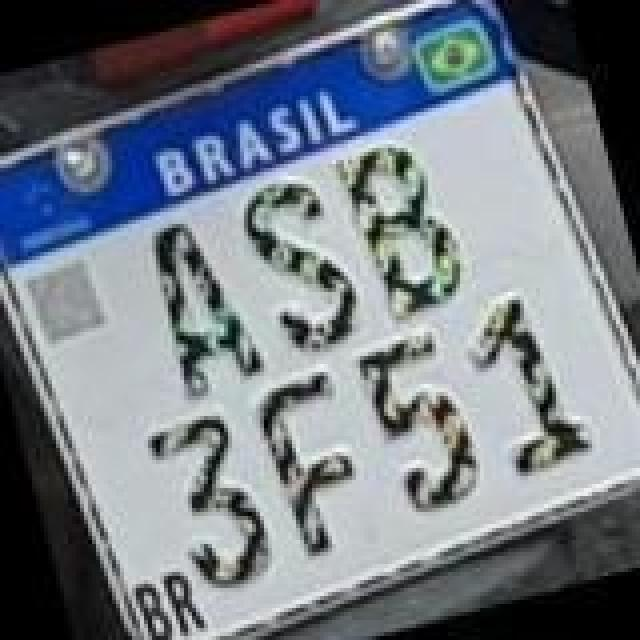1: (452, 280, 604, 488)
3: (138, 404, 278, 604)
5: (350, 324, 490, 524)
A: (138, 208, 270, 400)
B: (324, 126, 476, 330)
F: (244, 364, 380, 564)
S: (234, 166, 374, 362)
